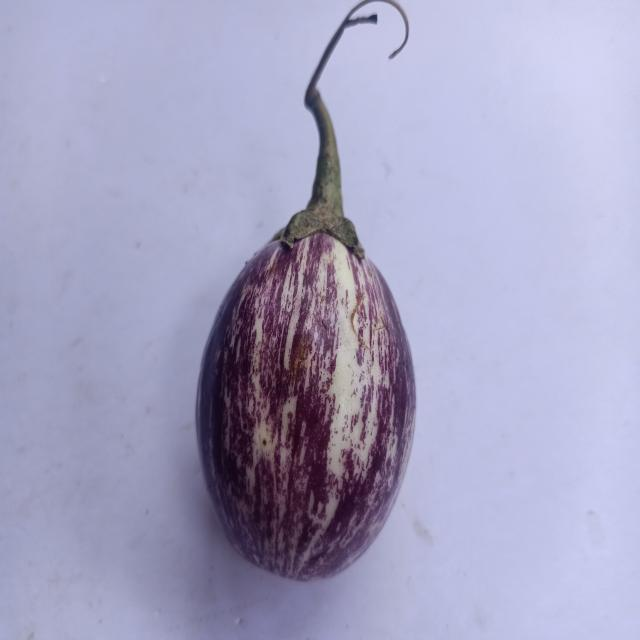Eggplant: (170, 5, 476, 601)
